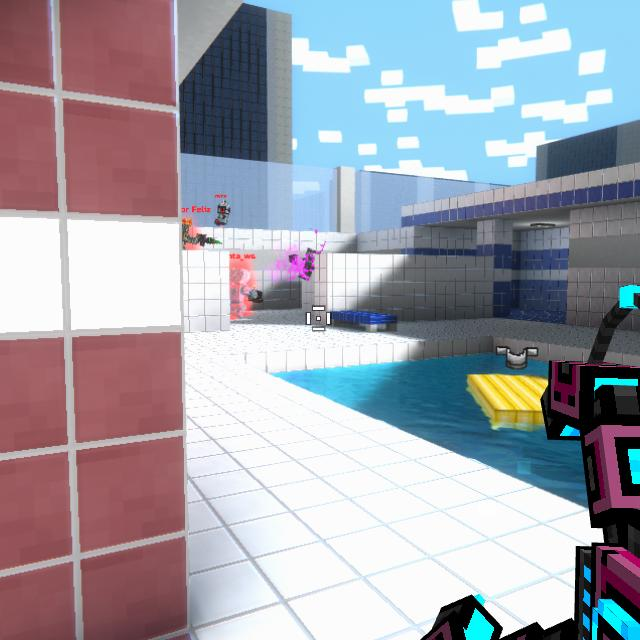Enemy: (231, 268, 255, 318), (182, 222, 195, 250), (216, 201, 228, 227)
